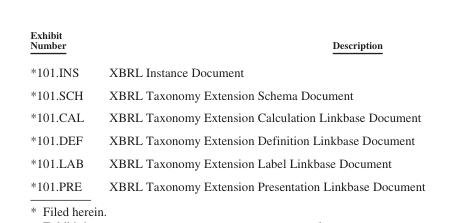table: (29, 28, 424, 192)
table column: (95, 28, 424, 192), (29, 28, 95, 192)
table column header: (29, 28, 424, 57)
table row: (29, 28, 424, 57), (29, 57, 424, 82), (29, 82, 424, 105), (29, 105, 424, 128), (29, 128, 424, 151), (29, 151, 424, 173), (29, 173, 424, 192)
